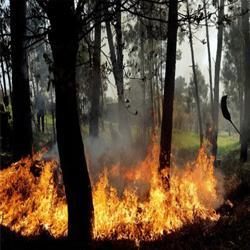fire: (4, 168, 61, 230), (93, 189, 166, 236), (178, 162, 218, 219), (128, 149, 158, 179)
